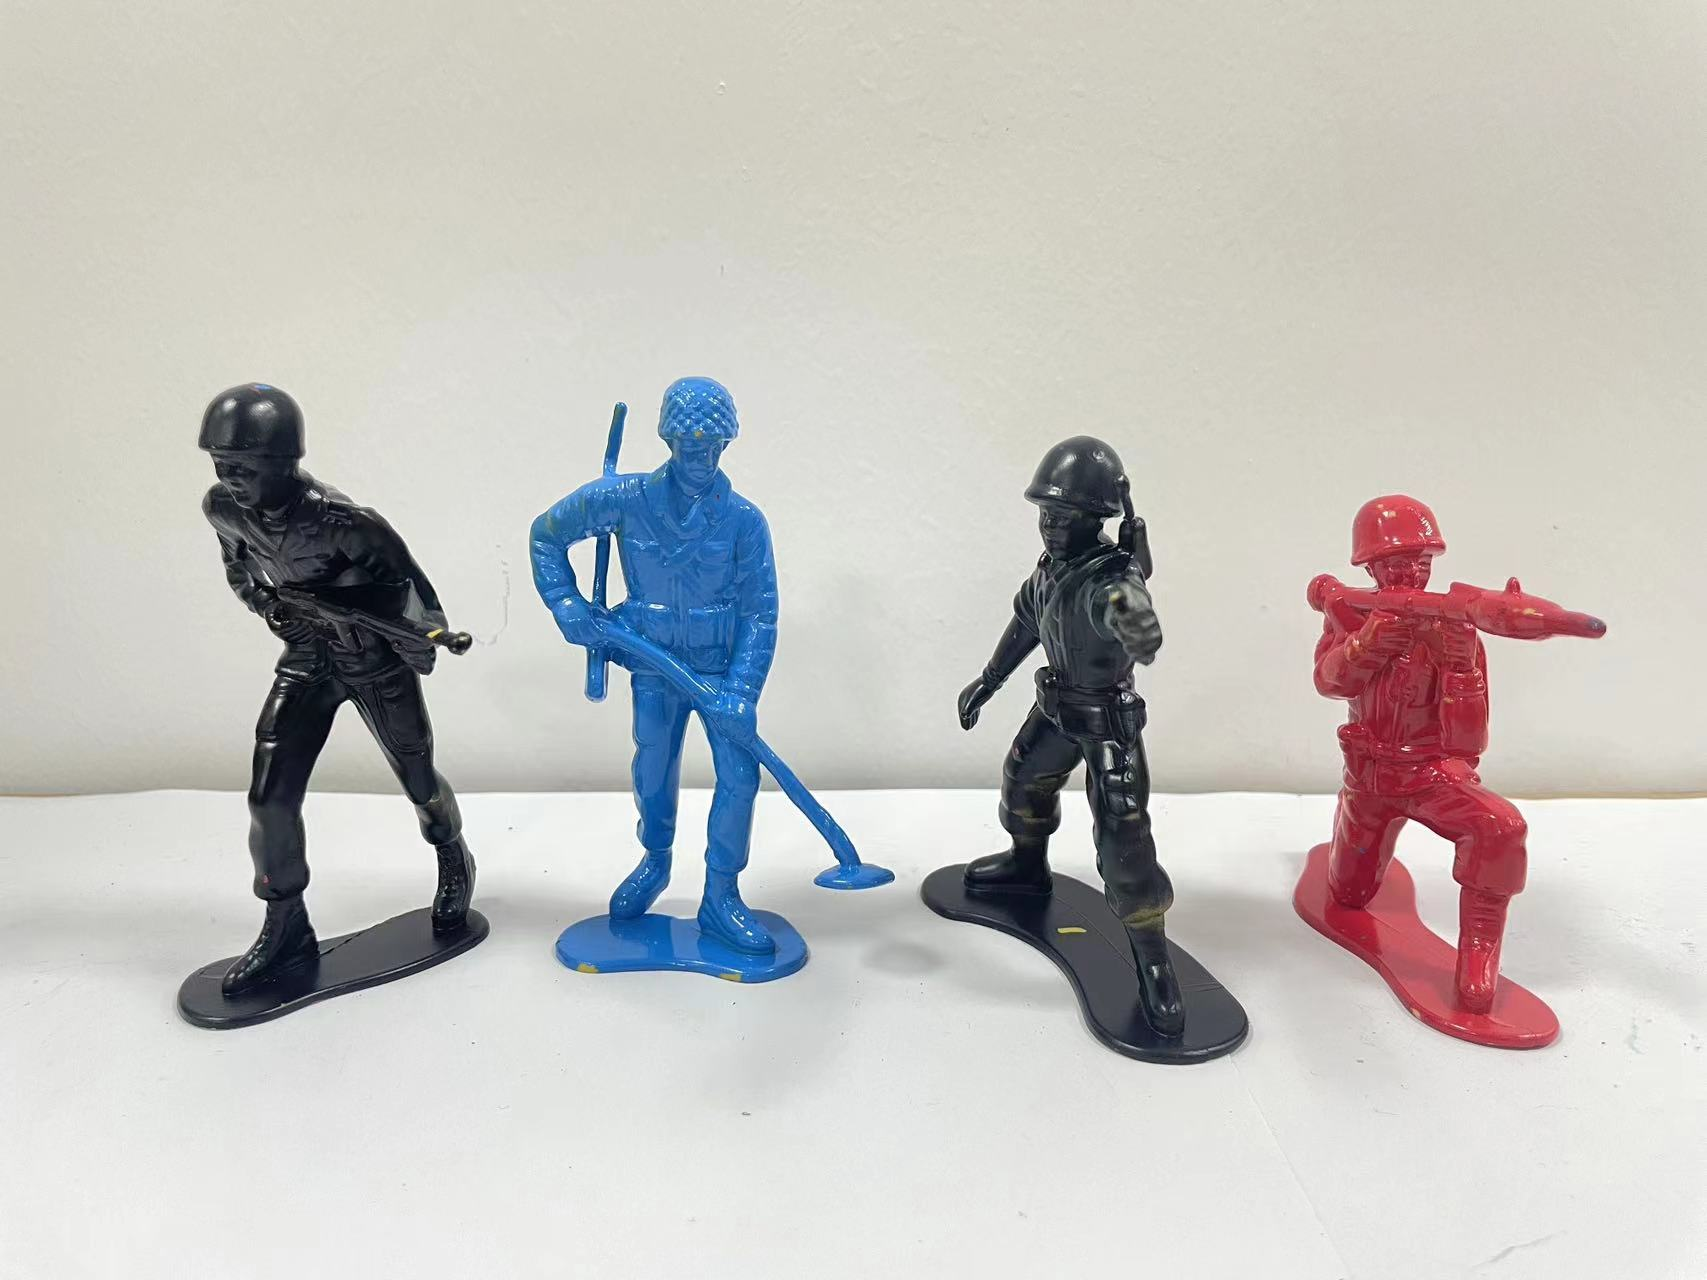black: (121, 321, 517, 1065), (913, 403, 1249, 1119)
blue: (508, 343, 913, 1043)
red: (1272, 463, 1634, 1107)
